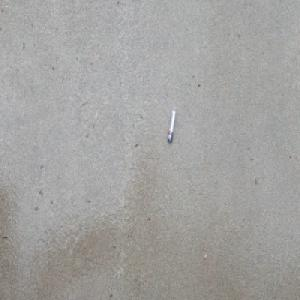Battery: (167, 109, 176, 143)
